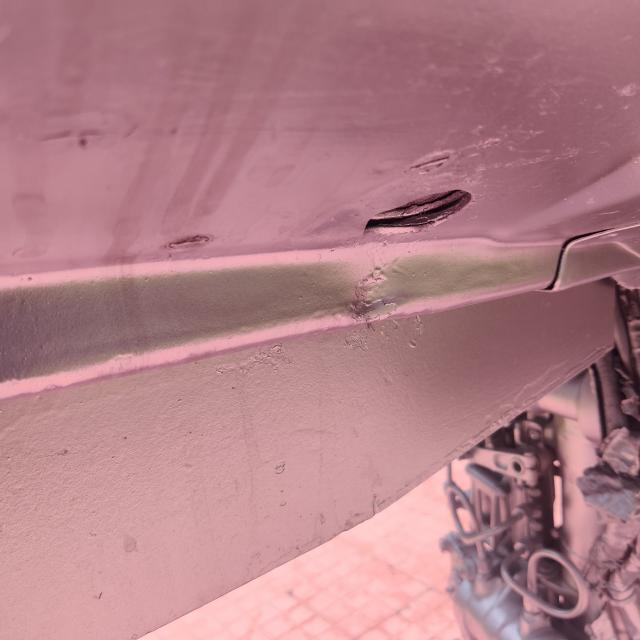dent: (321, 248, 414, 342)
